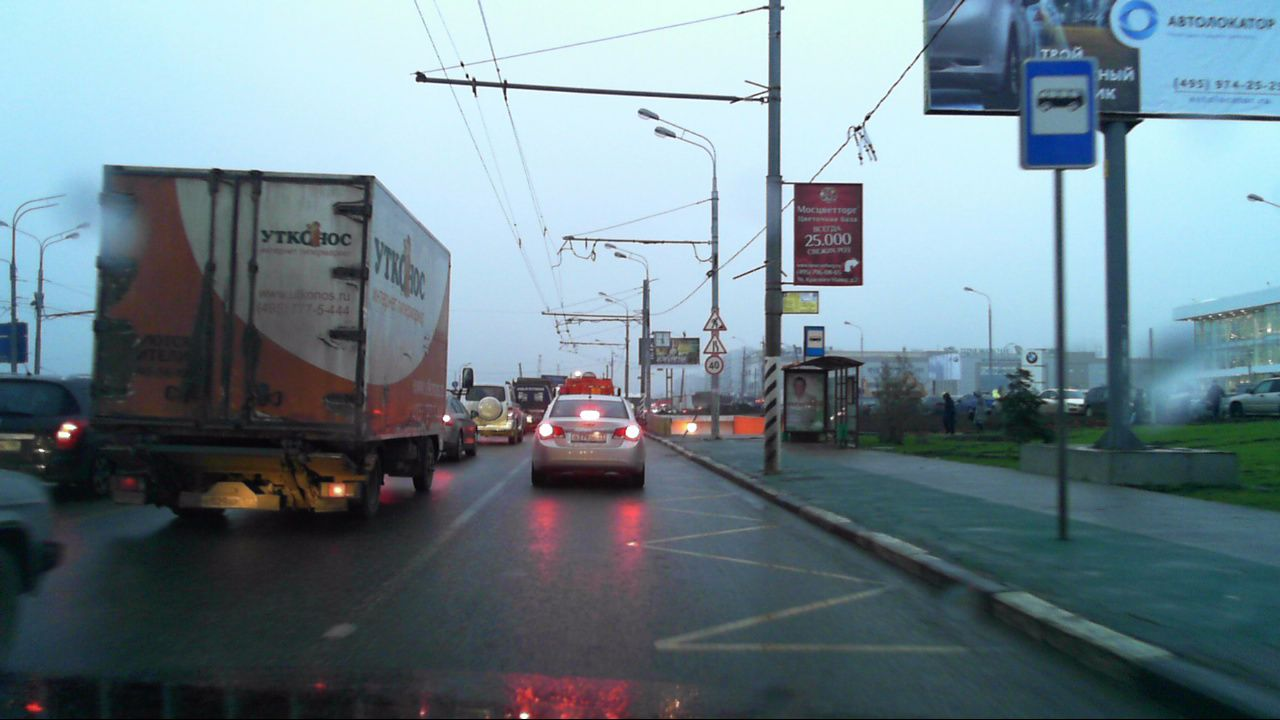speed_warning_40: (704, 355, 723, 373)
